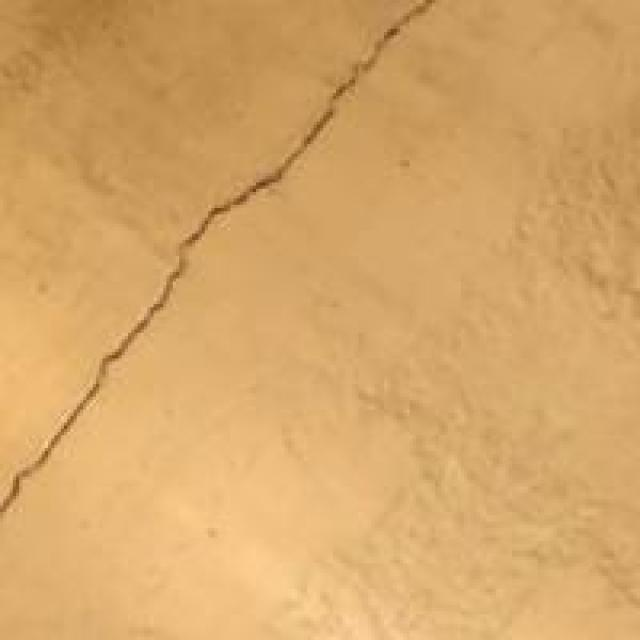Crack: (16, 10, 419, 572)
